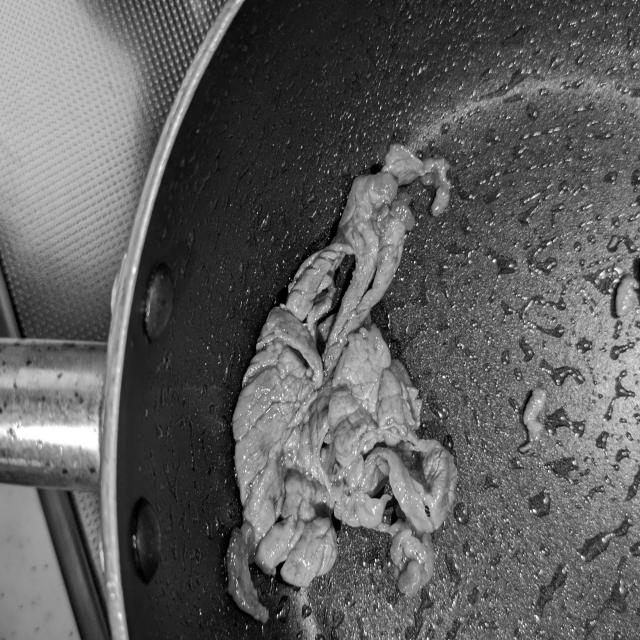OK cooked beef,: (224, 136, 461, 632)
